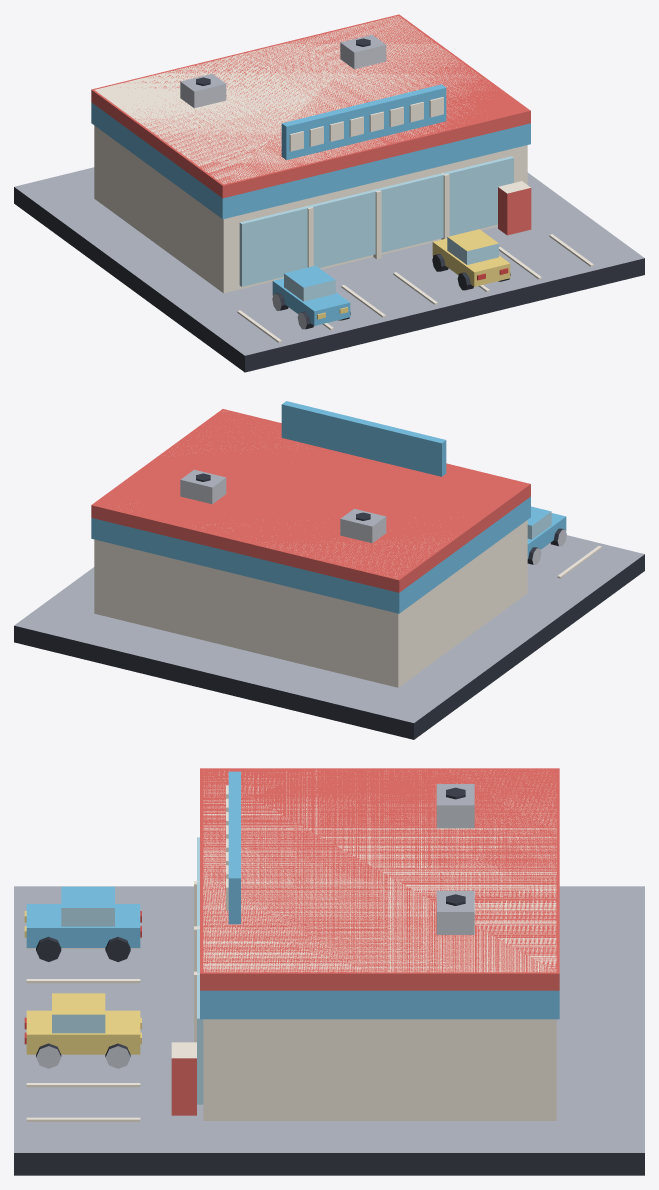
The model's file is shop_minimarket.glb.
3 renders of one model, top to bottom at view 1: azimuth 30°, elevation 25°; view 2: azimuth 150°, elevation 25°; view 3: azimuth 270°, elevation 25°, orthographic. The views are drawn at different scales.
Parts seen in each view (by area): view 1: shop_minimarket; view 2: shop_minimarket; view 3: shop_minimarket.
Part boxes in pixels (bbox=[...]): shop_minimarket: bbox=[14, 14, 644, 372]; shop_minimarket: bbox=[14, 401, 644, 739]; shop_minimarket: bbox=[14, 768, 644, 1175].
Bounding box in the file's own units: 1 × 0.38 × 1.
